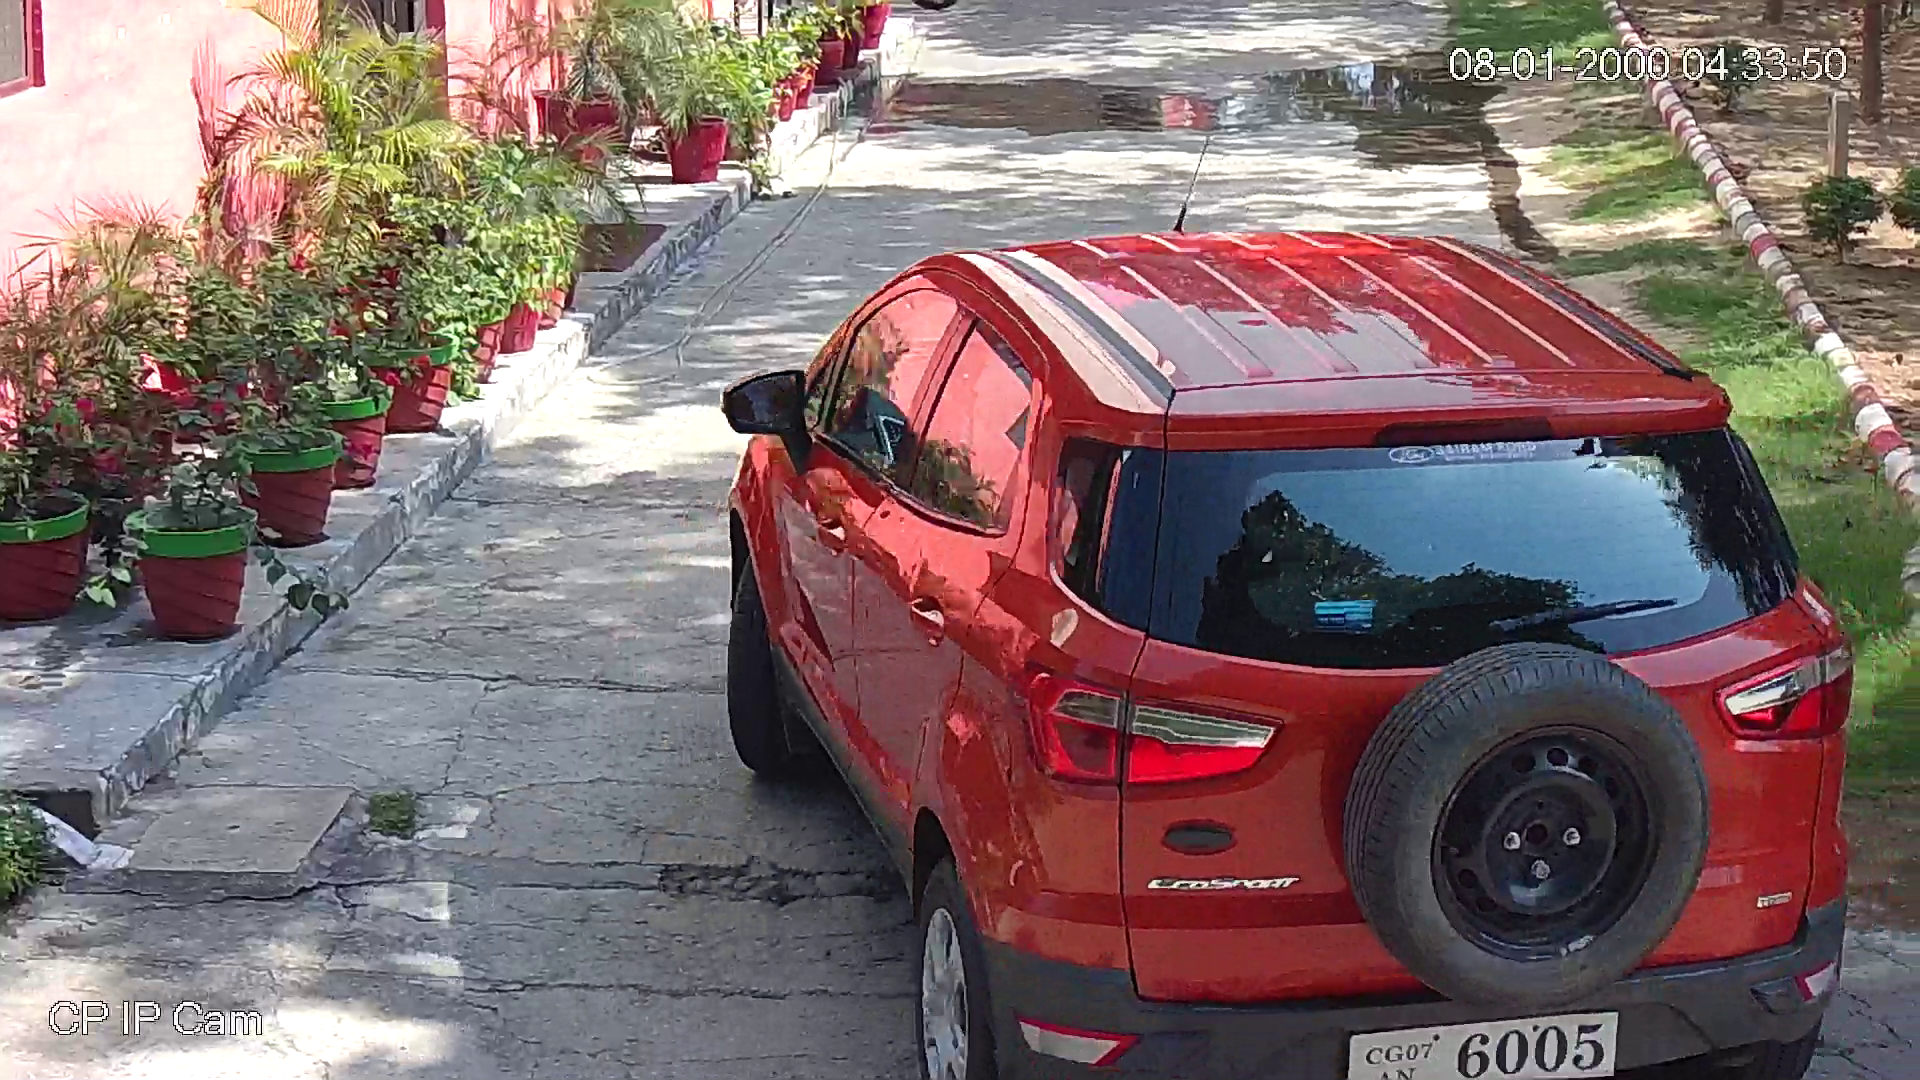plate: (1345, 1005, 1627, 1080)
